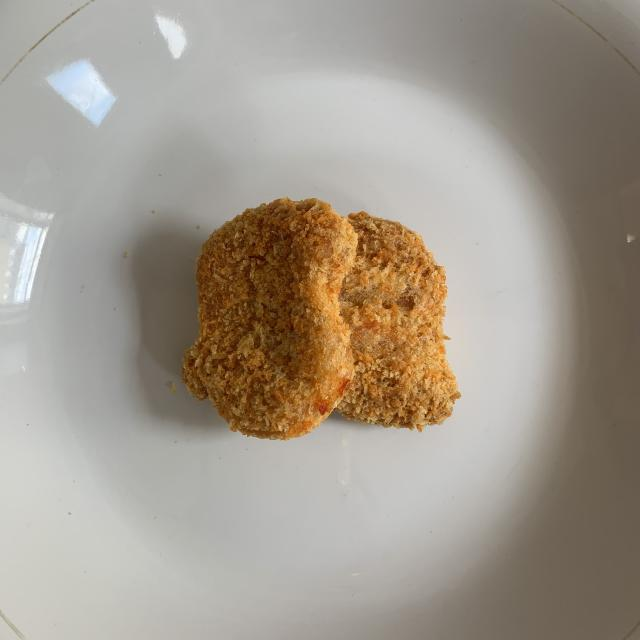Frango: (182, 198, 354, 439), (331, 208, 449, 421)
